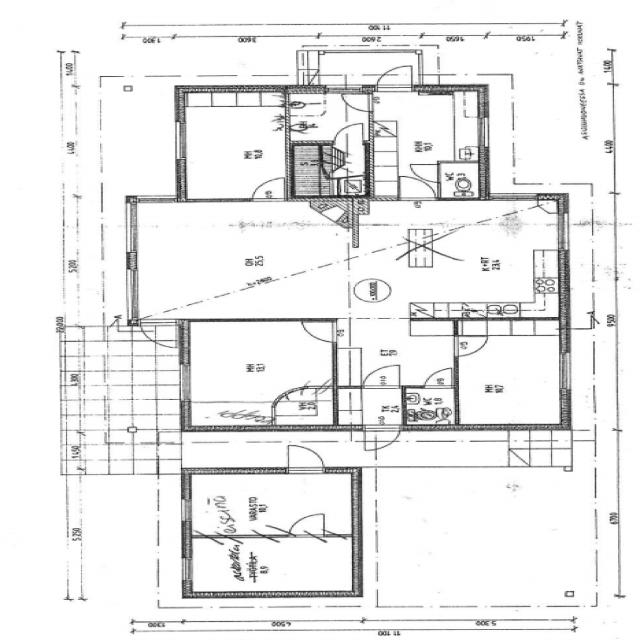door: (136, 318, 182, 350), (282, 442, 327, 473), (372, 64, 416, 93), (394, 174, 439, 202), (359, 363, 404, 389), (286, 511, 329, 538), (362, 426, 403, 452), (298, 318, 338, 344), (248, 175, 288, 201), (449, 334, 490, 358), (421, 366, 457, 389), (407, 160, 443, 182), (332, 122, 367, 143), (339, 92, 373, 112)
window: (168, 119, 190, 163), (553, 350, 576, 392), (552, 212, 571, 251), (473, 114, 493, 150), (175, 361, 192, 402), (487, 192, 541, 204), (176, 496, 194, 524), (177, 556, 195, 582)
zone: (132, 200, 352, 319), (349, 200, 562, 318), (186, 319, 336, 426), (364, 86, 487, 198), (176, 89, 288, 202), (453, 321, 567, 428), (181, 472, 354, 536), (195, 536, 358, 596), (333, 319, 459, 387), (289, 142, 367, 198), (284, 90, 366, 142), (402, 386, 457, 428), (272, 395, 336, 428), (438, 161, 484, 200)
